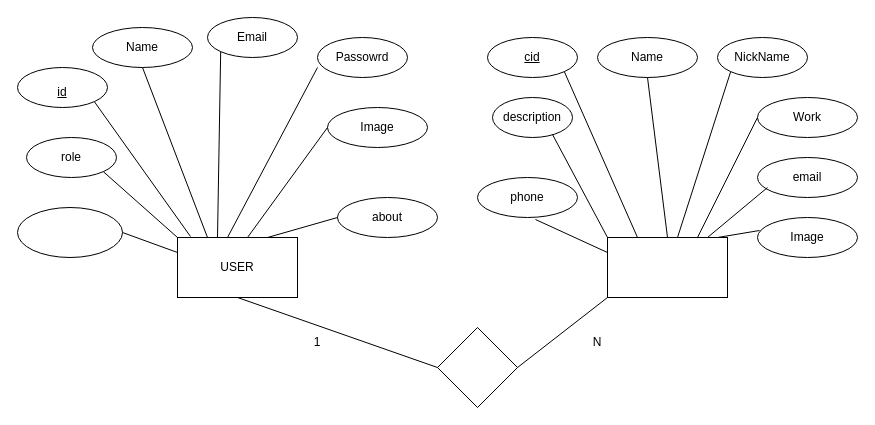
Image size: 875x425. Some labels were removed from this diagram. The centre of each missing label's shape, as x and y in pixels:
CONTACT: [667,267]
enabled: [69,232]
HAS: [477,367]
